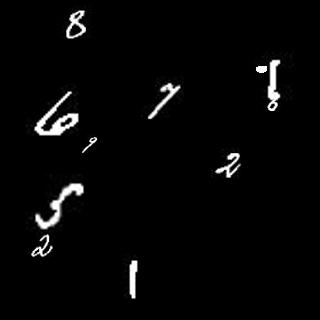dot: (253, 56, 268, 76)
eight: (64, 9, 86, 41)
five: (34, 175, 86, 227)
nine: (82, 134, 99, 155)
one: (124, 256, 142, 300), (268, 56, 284, 98)
seven: (149, 81, 178, 119)
six: (37, 94, 82, 136)
two: (209, 150, 245, 181), (27, 232, 60, 261)
